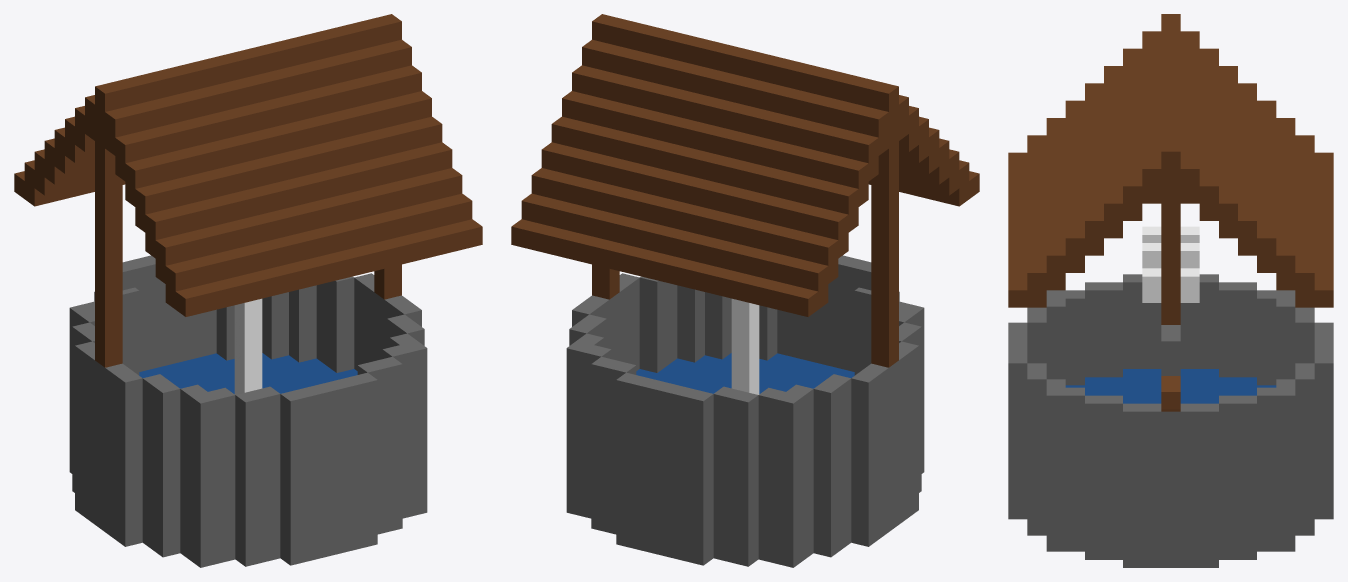
The model's file is well.dae.
The picture shows the model from 3 angles, left to right: view 1: azimuth 30°, elevation 25°; view 2: azimuth 150°, elevation 25°; view 3: azimuth 270°, elevation 25°; orthographic projection. The views are drawn at different scales.
Visible parts, largest first — view 1: PlaneCOL; view 2: PlaneCOL; view 3: PlaneCOL.
Part boxes in pixels (bbox=[...]): PlaneCOL: bbox=[14, 14, 482, 567]; PlaneCOL: bbox=[511, 14, 979, 567]; PlaneCOL: bbox=[1008, 14, 1333, 567].
Bounding box in the file's own units: 2.1 × 1.7 × 2.4.
